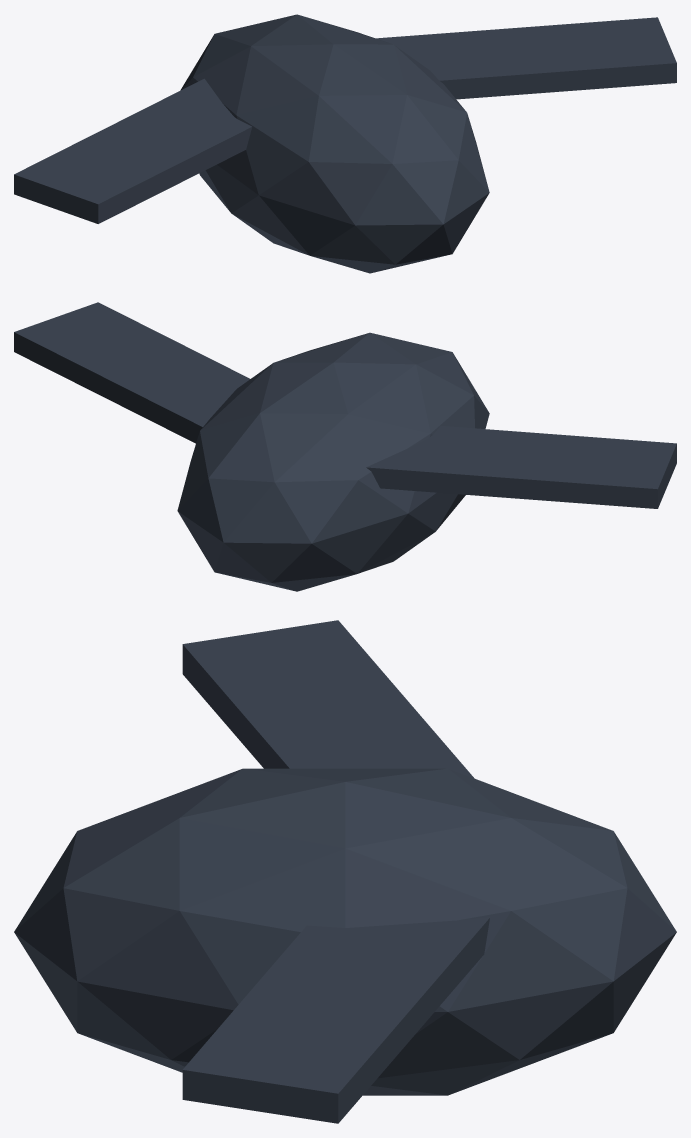
File: Jumping_Bird.fbx
The picture shows the model from 3 angles, top to bottom: view 1: azimuth 30°, elevation 25°; view 2: azimuth 150°, elevation 25°; view 3: azimuth 270°, elevation 25°; orthographic projection. The views are drawn at different scales.
Visible parts, largest first — view 1: Bird; view 2: Bird; view 3: Bird.
Part boxes in pixels (x1=…): Bird: x1=14, y1=14, x2=676, y2=273; Bird: x1=14, y1=302, x2=676, y2=591; Bird: x1=14, y1=620, x2=676, y2=1123.
Size of the model in its own units: 0.6761 by 0.2 by 0.4.
